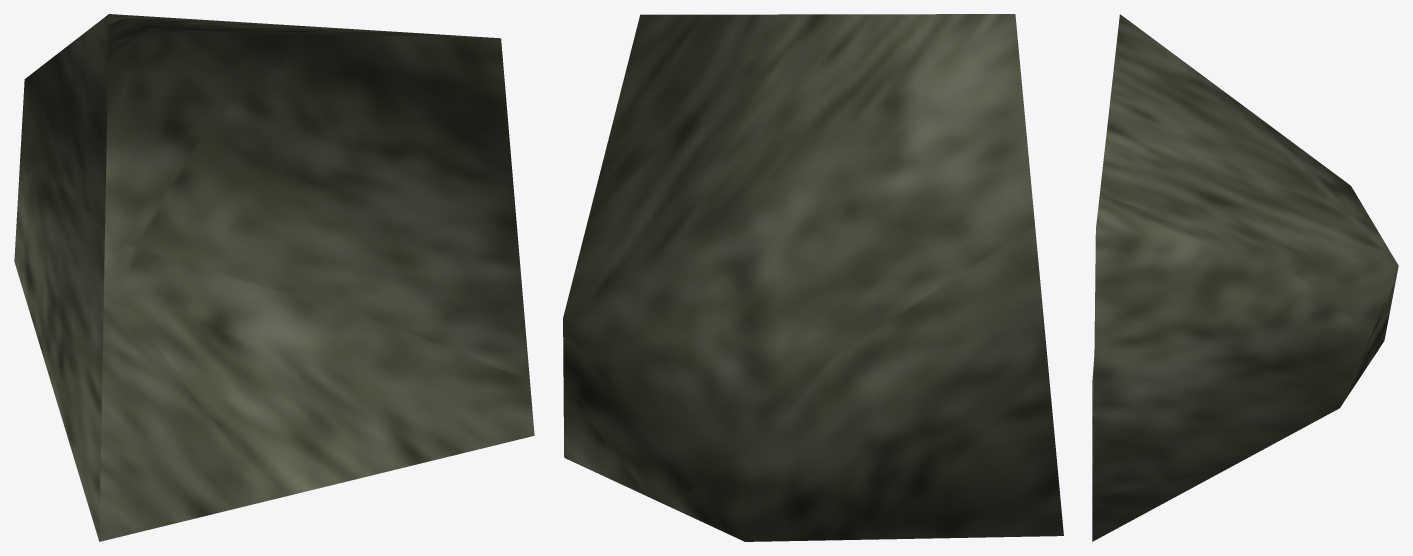
The model's file is TI_SmallStones_01.fbx.
3 renders of one model, left to right at view 1: azimuth 30°, elevation 25°; view 2: azimuth 150°, elevation 25°; view 3: azimuth 270°, elevation 25°, orthographic. The views are drawn at different scales.
Visible parts, largest first — view 1: TI_SmallStones_01; view 2: TI_SmallStones_01; view 3: TI_SmallStones_01.
Part boxes in pixels (box(x1,y1,x2,y2)): TI_SmallStones_01: box(14, 14, 534, 541); TI_SmallStones_01: box(563, 14, 1063, 541); TI_SmallStones_01: box(1092, 14, 1398, 541).
Bounding box in the file's own units: 0.159 × 0.1772 × 0.1297.
1 material, 1 textured.
